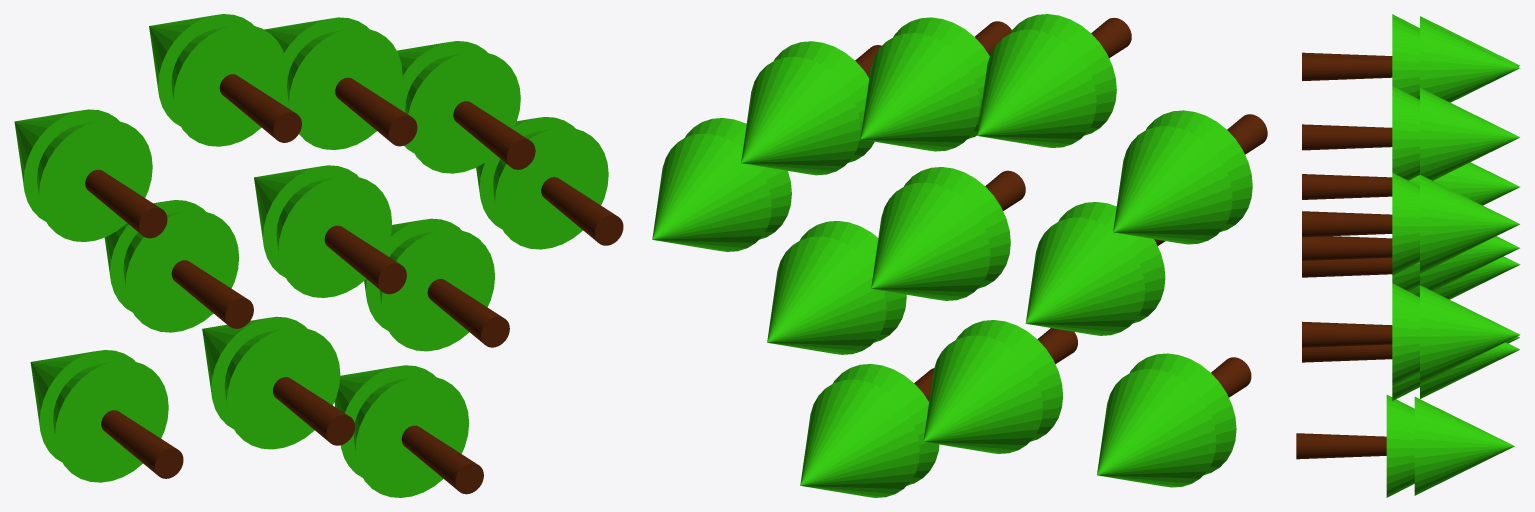
File: forest.glb
The picture shows the model from 3 angles, left to right: view 1: azimuth 30°, elevation 25°; view 2: azimuth 150°, elevation 25°; view 3: azimuth 270°, elevation 25°; orthographic projection. The views are drawn at different scales.
Visible parts, largest first — view 1: tree, tree.003, tree.002, tree.010, tree.007, tree.009, tree.004, tree.005, tree.008, tree.006, tree.001; view 2: tree.002, tree, tree.010, tree.003, tree.007, tree.009, tree.004, tree.005, tree.008, tree.006, tree.001; view 3: tree.009, tree.005, tree.006, tree.004, tree.010, tree, tree.008, tree.001, tree.002, tree.003.
Part boxes in pixels (x1,y1,x2,y2): tree: (254,165,406,297); tree.003: (14,109,167,241); tree.002: (30,350,183,482); tree.010: (149,14,301,146); tree.007: (202,316,354,449); tree.009: (334,365,483,497); tree.004: (264,17,417,149); tree.005: (395,41,535,173); tree.008: (104,200,253,332); tree.006: (476,117,623,249); tree.001: (364,218,509,351); tree.002: (1097,353,1251,487); tree: (871,167,1025,300); tree.010: (977,14,1131,147); tree.003: (1113,110,1267,244); tree.007: (923,320,1077,453); tree.009: (800,364,939,497); tree.004: (860,17,1011,151); tree.005: (741,41,881,175); tree.008: (1025,202,1165,335); tree.006: (652,118,791,251); tree.001: (767,221,906,354); tree.009: (1296,395,1514,497); tree.005: (1302,172,1519,275); tree.006: (1302,283,1520,386); tree.004: (1302,86,1519,180); tree.010: (1302,16,1520,102); tree: (1302,236,1519,291); tree.008: (1302,162,1519,205); tree.001: (1302,342,1519,400); tree.002: (1302,256,1520,299); tree.003: (1302,14,1519,66).
Bounding box in the file's own units: 20.22 × 17.34 × 8.74.
